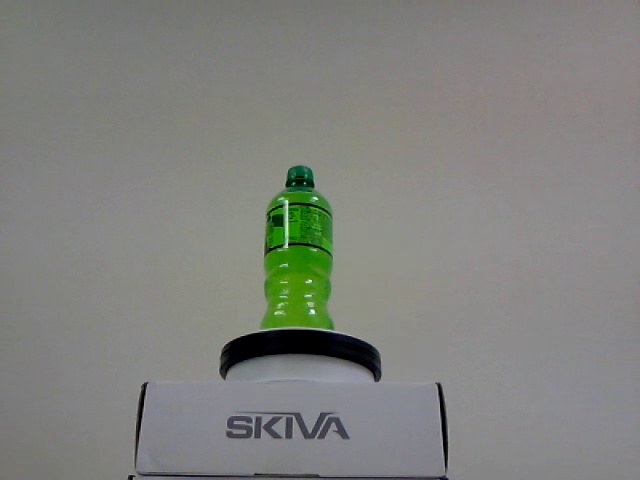botolplastik: (264, 167, 334, 329)
